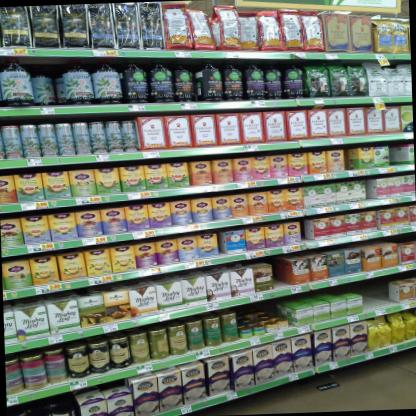empty_space: (359, 288, 399, 313)
